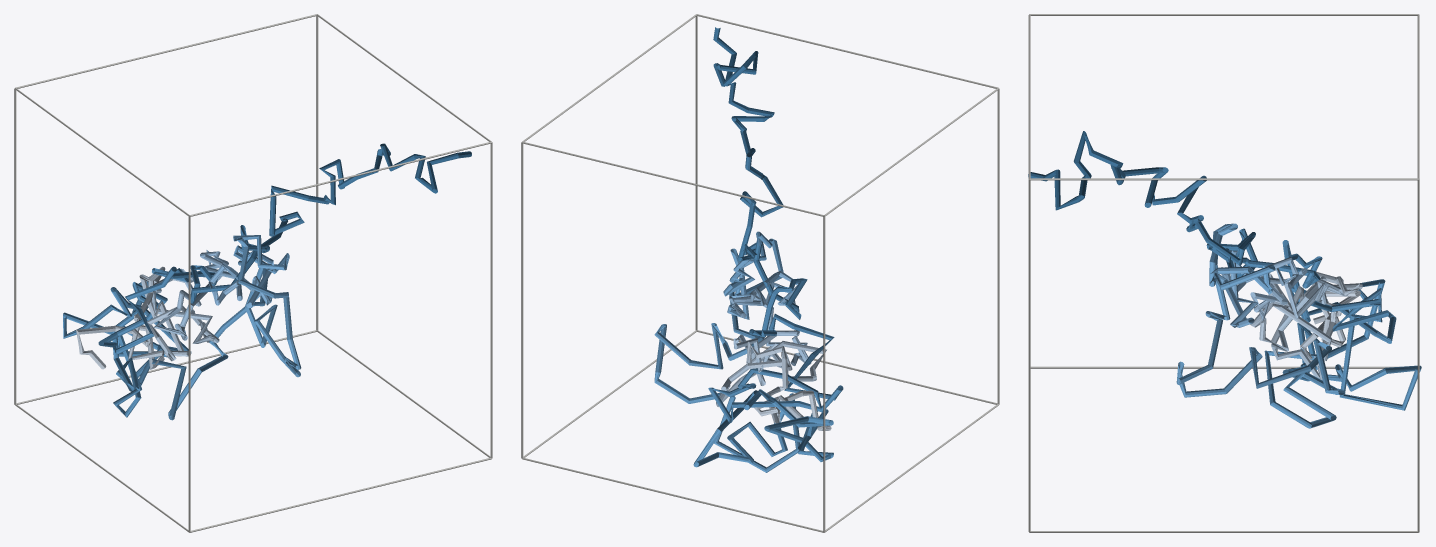
The picture shows the model from 3 angles, left to right: view 1: azimuth 30°, elevation 25°; view 2: azimuth 150°, elevation 25°; view 3: azimuth 270°, elevation 25°; orthographic projection. The views are drawn at different scales.
Visible parts, largest first — view 1: geometry_0, geometry_1; view 2: geometry_0, geometry_1; view 3: geometry_0, geometry_1.
Boxes of the visible parts, x1,y1,x2,y2 form: geometry_0: (63, 143, 471, 420); geometry_1: (14, 14, 492, 532); geometry_0: (654, 27, 843, 472); geometry_1: (521, 14, 999, 532); geometry_0: (1028, 131, 1421, 428); geometry_1: (1028, 14, 1419, 532).
Bounding box in the file's own units: 0.3016 × 0.3044 × 0.3036.
